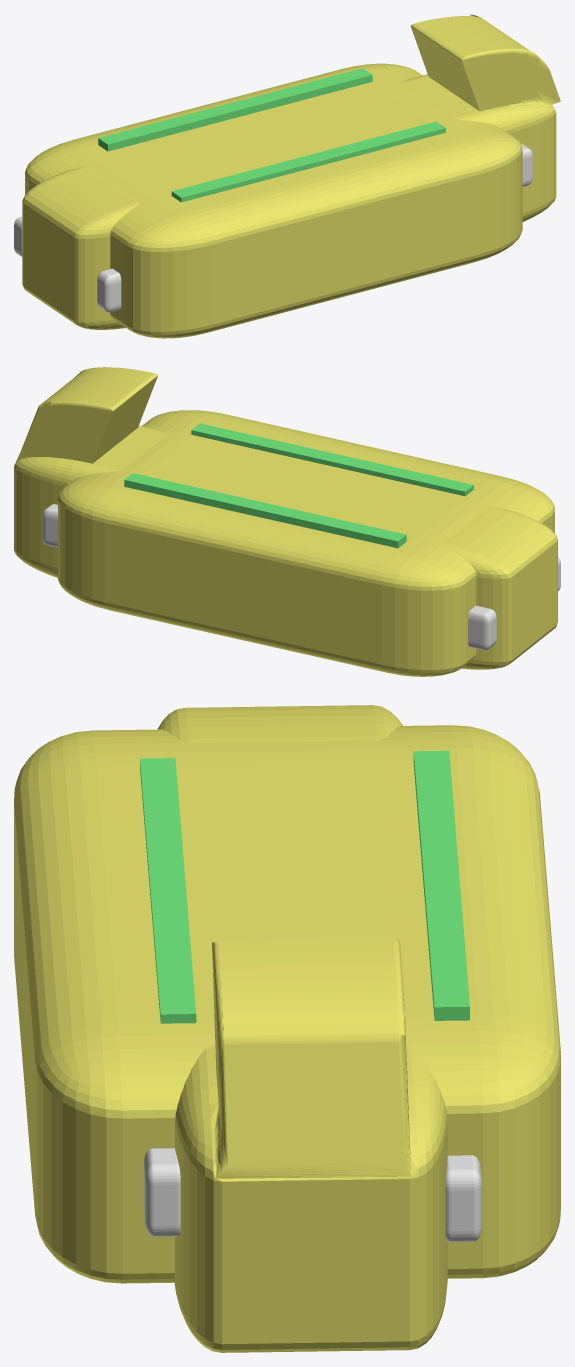
Rendered from trunk_new.dae.
3 renders of one model, top to bottom at view 1: azimuth 30°, elevation 25°; view 2: azimuth 150°, elevation 25°; view 3: azimuth 270°, elevation 25°, orthographic. The views are drawn at different scales.
Visible parts, largest first — view 1: Cube.001; view 2: Cube.001; view 3: Cube.001.
Part boxes in pixels (bbox=[...]): Cube.001: bbox=[14, 14, 560, 338]; Cube.001: bbox=[14, 367, 560, 676]; Cube.001: bbox=[14, 705, 560, 1352].
Size of the model in its own units: 0.3533 by 0.1726 by 0.1226.
